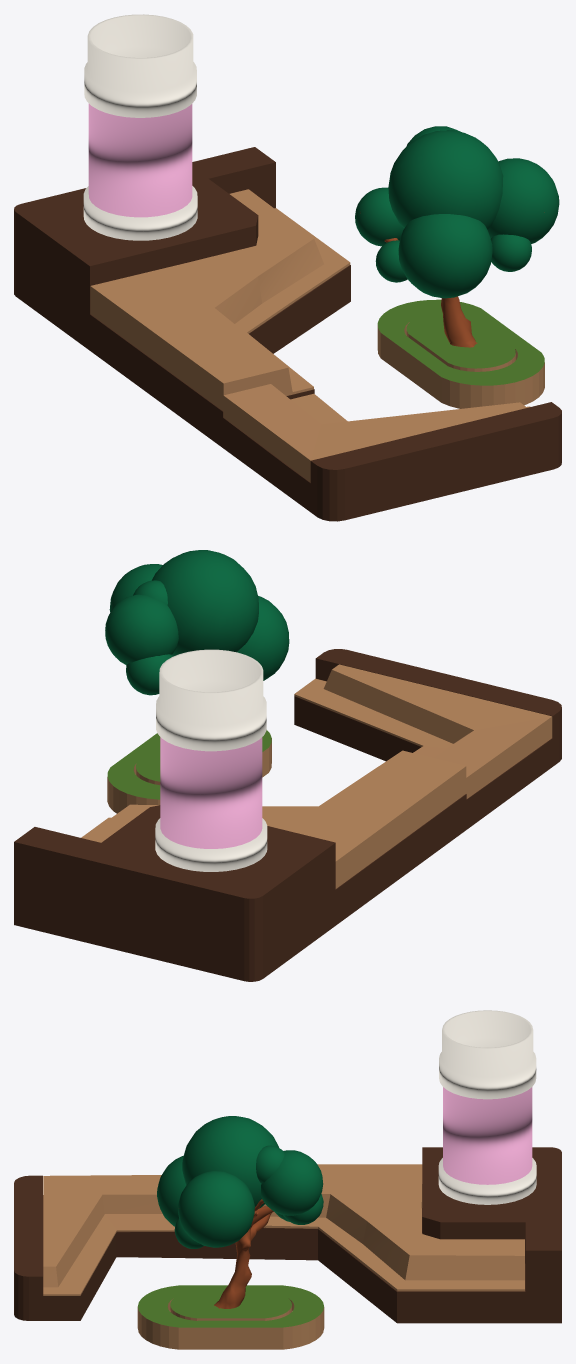
File: asientos_centro.glb
3 views of the same model, one above another, from view 1: azimuth 30°, elevation 25°; view 2: azimuth 150°, elevation 25°; view 3: azimuth 270°, elevation 25° (orthographic). The views are drawn at different scales.
Visible parts, largest first — view 1: Cube, Plano.001, Cilindro, Círculo, Plano, Sphere.019, Sphere.014, Sphere.016, Sphere.017, Sphere.020, Mball.001, Sphere.022; view 2: Cube, Cilindro, Plano, Plano.001, Sphere.019, Sphere.021, Círculo, Sphere.014, Sphere.018, Sphere.016; view 3: Cube, Cilindro, Plano.001, Círculo, Plano, Sphere.016, Sphere.019, Sphere.021, Mball.001, Sphere.014, Sphere.015, Sphere.018.
Part boxes in pixels (x1,y1,x2,y2): Cube: [14, 147, 561, 521]; Plano.001: [90, 189, 350, 410]; Cilindro: [83, 14, 197, 240]; Círculo: [377, 299, 544, 408]; Plano: [223, 384, 530, 482]; Sphere.019: [388, 130, 503, 229]; Sphere.014: [398, 214, 492, 298]; Sphere.016: [488, 158, 559, 243]; Sphere.017: [355, 187, 404, 246]; Sphere.020: [490, 234, 531, 271]; Mball.001: [360, 212, 544, 347]; Sphere.022: [375, 240, 407, 282]; Cube: [14, 649, 561, 981]; Cilindro: [155, 649, 267, 871]; Plano: [294, 664, 552, 798]; Plano.001: [81, 750, 466, 888]; Sphere.019: [152, 550, 258, 656]; Sphere.021: [105, 594, 178, 664]; Círculo: [107, 730, 271, 813]; Sphere.014: [237, 596, 289, 680]; Sphere.018: [126, 654, 172, 695]; Sphere.016: [109, 564, 162, 612]; Cube: [14, 1147, 561, 1323]; Cilindro: [438, 1010, 536, 1204]; Plano.001: [262, 1164, 524, 1291]; Círculo: [137, 1285, 324, 1349]; Plano: [43, 1175, 174, 1295]; Sphere.016: [178, 1171, 254, 1247]; Sphere.019: [182, 1116, 278, 1208]; Sphere.021: [261, 1150, 323, 1215]; Mball.001: [214, 1199, 273, 1308]; Sphere.014: [157, 1155, 186, 1226]; Sphere.015: [256, 1145, 284, 1183]; Sphere.018: [283, 1194, 323, 1224].
Size of the model in its own units: 19.72 by 14.54 by 31.71.
